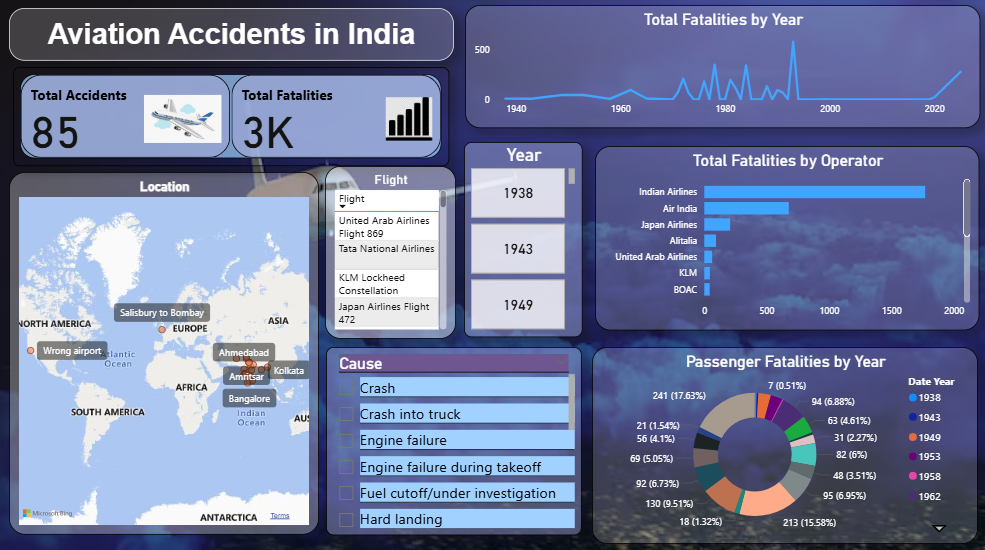

What the dashboard file says about the page in this screenshot:
{"tool":"powerbi","page":{"name":"Page 1","canvas":[1280,720],"ordinal":0},"visuals":[{"type":"textbox","box":[12.9,14.2,574.2,68.4],"z":0},{"type":"lineChart","title":"Total Fatalities by Year","fields":{"Category":["Aviation accident in India.Date.Variation.Date Hierarchy.Year"],"Y":["Sum(Aviation accident in India.Total Fatalities)"]},"box":[601.3,10.3,664.5,158.7],"z":1000},{"type":"clusteredBarChart","title":"Total Fatalities by Operator","fields":{"Category":["Aviation accident in India.Operator"],"Y":["Sum(Aviation accident in India.Total Fatalities)"]},"box":[768.4,192.1,496.1,238.2],"z":2000},{"type":"map","fields":{"Category":["Aviation accident in India.Location"]},"box":[12.9,225.8,400,468.4],"z":3000},{"type":"cardVisual","fields":{"Data":["Aviation accident in India.Total Accidents","Sum(Aviation accident in India.Total Fatalities)"]},"box":[18.1,90.3,562.6,127.7],"z":4000},{"type":"donutChart","fields":{"Category":["Aviation accident in India.Date.Variation.Date Hierarchy.Year"],"Y":["Sum(Aviation accident in India.Passenger Fatalities)"]},"box":[765.2,451.6,498.1,254.2],"z":5000},{"type":"tableEx","title":"Flight","fields":{"Values":["Aviation accident in India.Flight"]},"box":[420,217.5,168.8,222.5],"z":6000},{"type":"slicer","title":"Cause","fields":{"Values":["Aviation accident in India.Cause"]},"box":[422.5,451.2,330,242.5],"z":7000},{"type":"advancedSlicerVisual","fields":{"Values":["Aviation accident in India.Date.Variation.Date Hierarchy.Year"]},"box":[599.7,186.5,152.9,252],"z":8000}]}

Visuals, with their boxes in screenshot pixels (x1, y1, x2, y2), scaled from the page's 1280x720 canvas onto the 985x550 screenshot:
textbox: (left=10, top=11, right=452, bottom=63)
"Total Fatalities by Year" lineChart: (left=463, top=8, right=974, bottom=129)
"Total Fatalities by Operator" clusteredBarChart: (left=591, top=147, right=973, bottom=329)
map - Aviation accident in India.Location: (left=10, top=172, right=318, bottom=530)
cardVisual - Aviation accident in India.Total Accidents x Sum(Aviation accident in India.Total Fatalities): (left=14, top=69, right=447, bottom=167)
donutChart - Aviation accident in India.Date.Variation.Date Hierarchy.Year x Sum(Aviation accident in India.Passenger Fatalities): (left=589, top=345, right=972, bottom=539)
"Flight" tableEx: (left=323, top=166, right=453, bottom=336)
"Cause" slicer: (left=325, top=345, right=579, bottom=530)
advancedSlicerVisual - Aviation accident in India.Date.Variation.Date Hierarchy.Year: (left=461, top=142, right=579, bottom=335)
